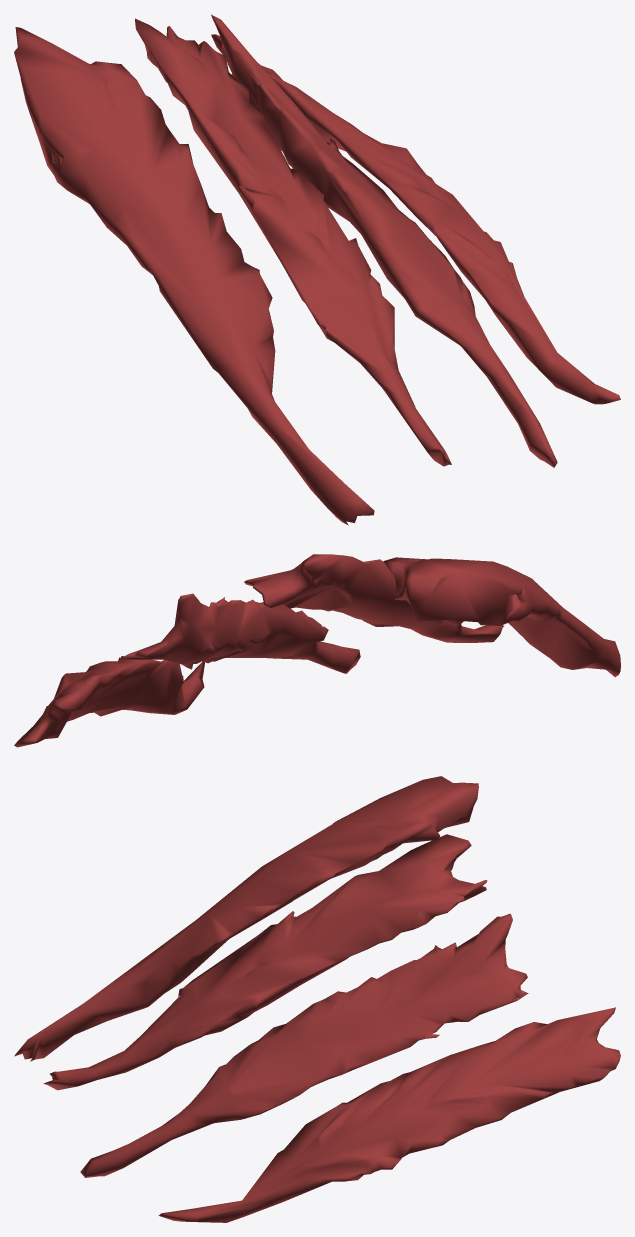
Rendered from dorsal-interossei-muscles-of-foot-l.glb.
The picture shows the model from 3 angles, top to bottom: view 1: azimuth 30°, elevation 25°; view 2: azimuth 150°, elevation 25°; view 3: azimuth 270°, elevation 25°; orthographic projection. The views are drawn at different scales.
Parts seen in each view (by area): view 1: Dorsal interossei muscles of foot.l; view 2: Dorsal interossei muscles of foot.l; view 3: Dorsal interossei muscles of foot.l.
Part boxes in pixels (x1,y1,x2,y2): Dorsal interossei muscles of foot.l: (14, 14, 620, 525); Dorsal interossei muscles of foot.l: (14, 554, 620, 747); Dorsal interossei muscles of foot.l: (14, 776, 620, 1222).
Size of the model in its own units: 0.0513 by 0.0369 by 0.0722.
